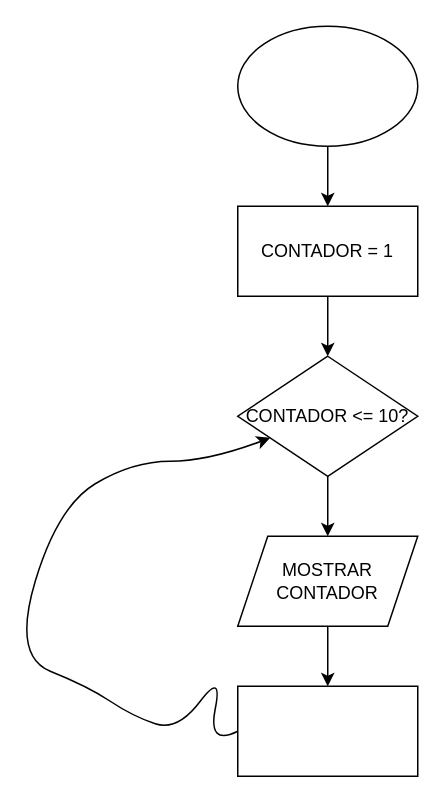
Some shapes in this 444 by 803 pixel diagram are drawn without their labels. The shapes that lost their labels are listed below. From the top down, each one's box as (x1, y1, x2, y2) in pixels, then its label:
(236, 25, 418, 146): INICIO
(236, 685, 418, 776): CONTADOR += 1
